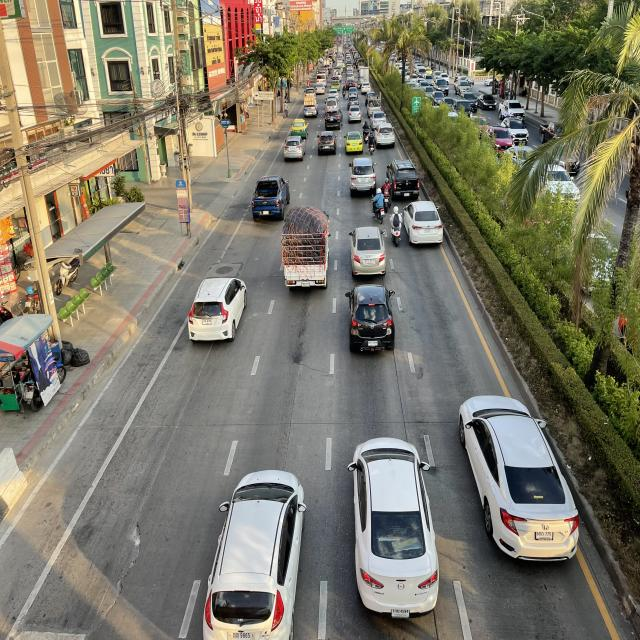bike: (389, 205, 403, 248), (370, 187, 386, 224), (379, 176, 392, 212), (368, 130, 376, 156), (362, 120, 370, 144)
car: (457, 390, 581, 568), (200, 467, 310, 640), (346, 436, 440, 620), (185, 273, 249, 346), (344, 282, 397, 352), (348, 225, 388, 279), (251, 173, 291, 223), (403, 200, 444, 248), (386, 158, 420, 201), (348, 156, 377, 197)
truck: (280, 205, 332, 292)
